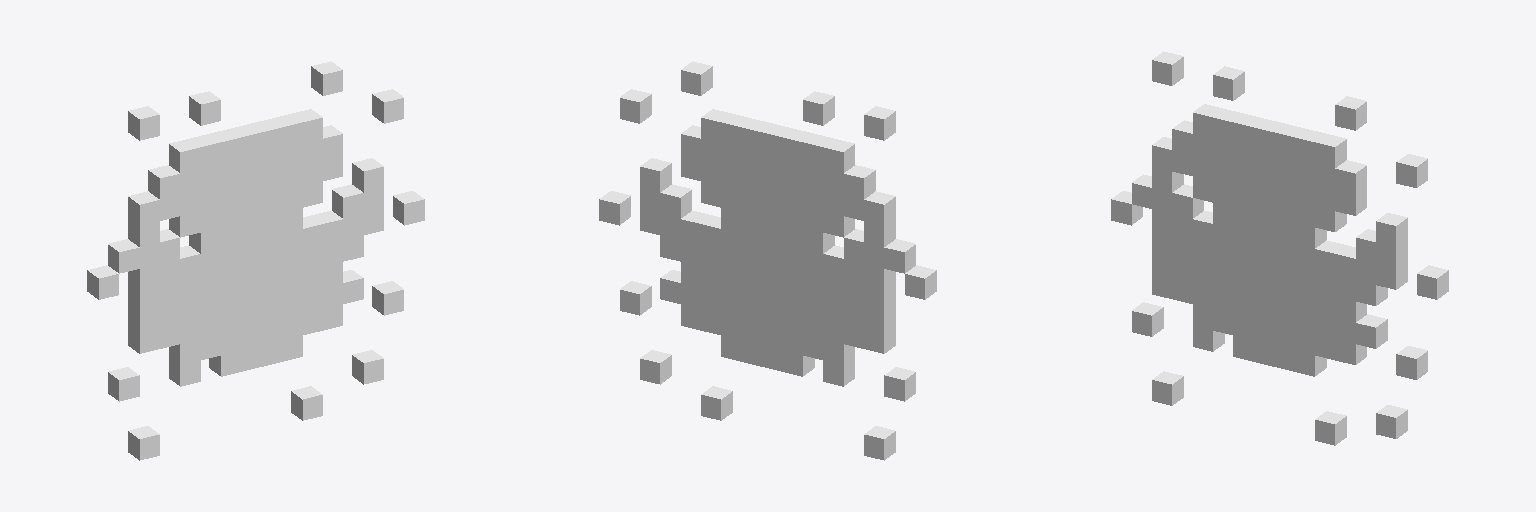
The model's file is Die3.obj.
3 views of the same model, side by side, from view 1: azimuth 30°, elevation 25°; view 2: azimuth 150°, elevation 25°; view 3: azimuth 330°, elevation 25° (orthographic).
Visible parts, largest first — view 1: object 1; view 2: object 1; view 3: object 1.
Part boxes in pixels (x1,y1,x2,y2): object 1: (87,61,424,460); object 1: (599,61,936,460); object 1: (1111,51,1448,445).
Bounding box in the file's own units: 1.6 × 1.6 × 0.1.